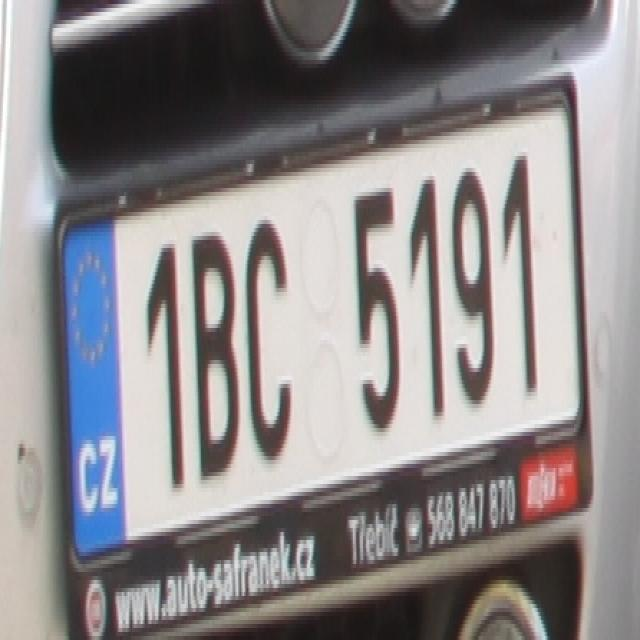1: (146, 244, 188, 488), (412, 172, 445, 412), (502, 152, 535, 392)
5: (352, 184, 402, 428)
9: (450, 164, 496, 400)
B: (192, 232, 240, 480)
C: (244, 216, 294, 464)
